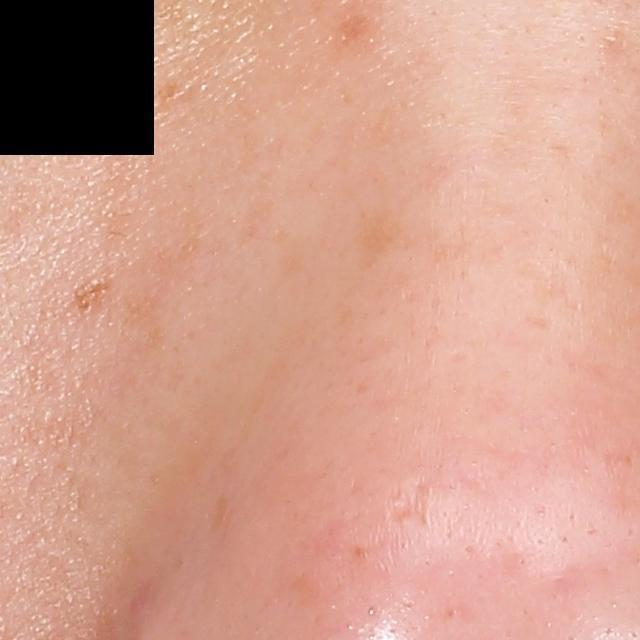atrophic_scar: (385, 476, 437, 534)
melasma: (69, 275, 114, 320)
